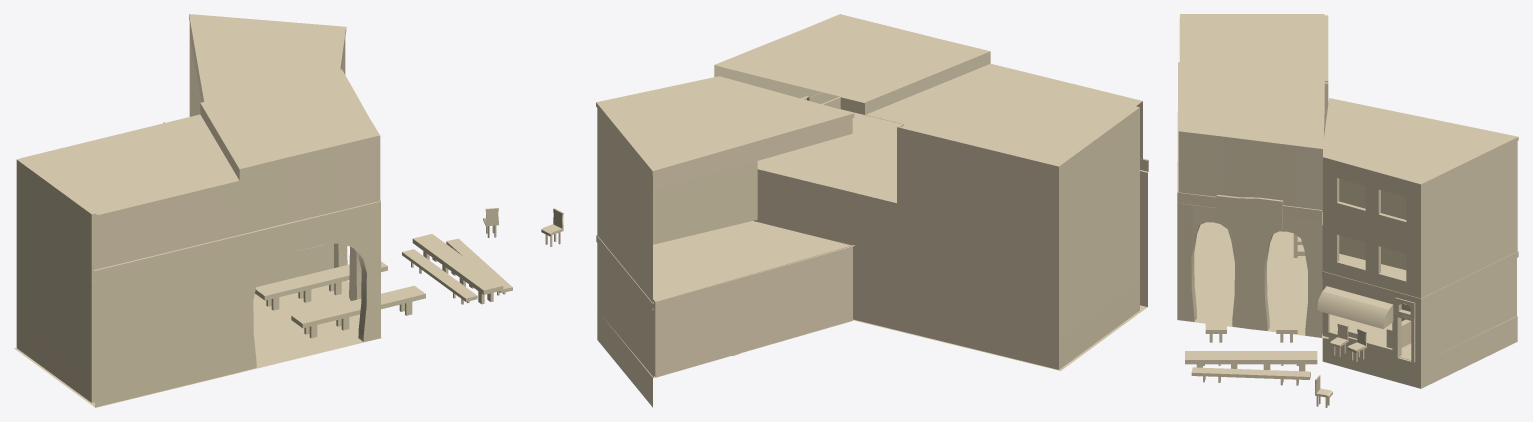
The model's file is Cafes.fbx.
3 views of the same model, side by side, from view 1: azimuth 30°, elevation 25°; view 2: azimuth 150°, elevation 25°; view 3: azimuth 270°, elevation 25° (orthographic). The views are drawn at different scales.
Parts seen in each view (by area): view 1: LowerWalls, Roof, OuterWalls, Floor, Dividing, LongTable3, LongTable1, LongTable2, Bench2, Bench1; view 2: LowerWalls, OuterWalls, Roof, Ceiling (×2), Inner, voorderamen, Floor; view 3: OuterWalls, Roof, LowerWalls, Floor (×2), voorderamen, Windscherm, LongTable1, Bord, LongTable3, LongTable2, Dividing, Bench1 (+3 smaller).
Boxes of the visible parts, <box> form: LowerWalls: <box>16,158,380,407</box>; Roof: <box>20,69,380,268</box>; OuterWalls: <box>189,14,346,116</box>; Floor: <box>14,280,381,407</box>; Dividing: <box>93,200,380,282</box>; LongTable3: <box>291,285,425,338</box>; LongTable1: <box>412,234,503,304</box>; LongTable2: <box>255,261,387,310</box>; Bench2: <box>402,249,477,304</box>; Bench1: <box>446,238,512,295</box>; LowerWalls: <box>754,97,1147,369</box>; OuterWalls: <box>596,76,854,407</box>; Roof: <box>714,14,1142,162</box>; Ceiling (×2): <box>653,109,904,301</box>; Inner: <box>652,220,852,377</box>; voorderamen: <box>653,161,757,244</box>; Floor: <box>853,305,1147,370</box>; OuterWalls: <box>1322,98,1518,388</box>; Roof: <box>1178,14,1324,211</box>; LowerWalls: <box>1177,15,1328,337</box>; Floor (×2): <box>1177,222,1516,360</box>; voorderamen: <box>1339,178,1406,269</box>; Windscherm: <box>1317,286,1393,329</box>; LongTable1: <box>1185,351,1317,376</box>; Bord: <box>1216,195,1283,229</box>; LongTable3: <box>1205,274,1226,342</box>; LongTable2: <box>1276,274,1297,342</box>; Dividing: <box>1177,62,1322,221</box>; Bench1: <box>1191,367,1310,385</box>.
Bounding box in the file's own units: 25.19 × 11.48 × 16.57.
